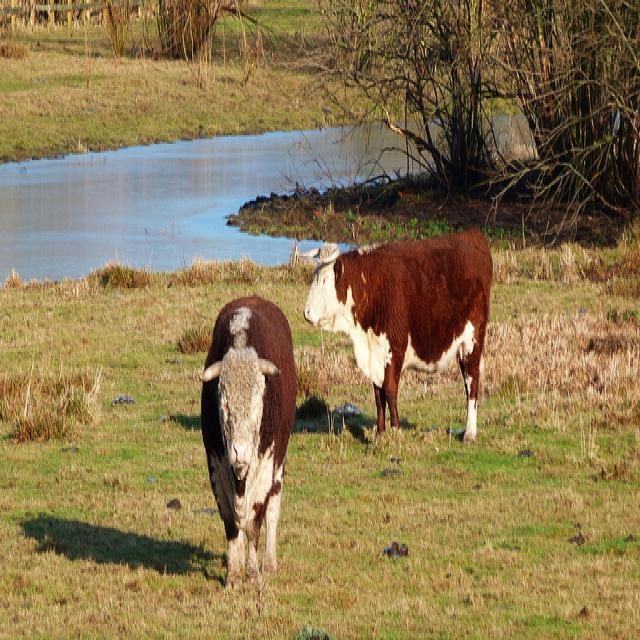cow: (302, 224, 496, 448), (201, 288, 297, 583)
